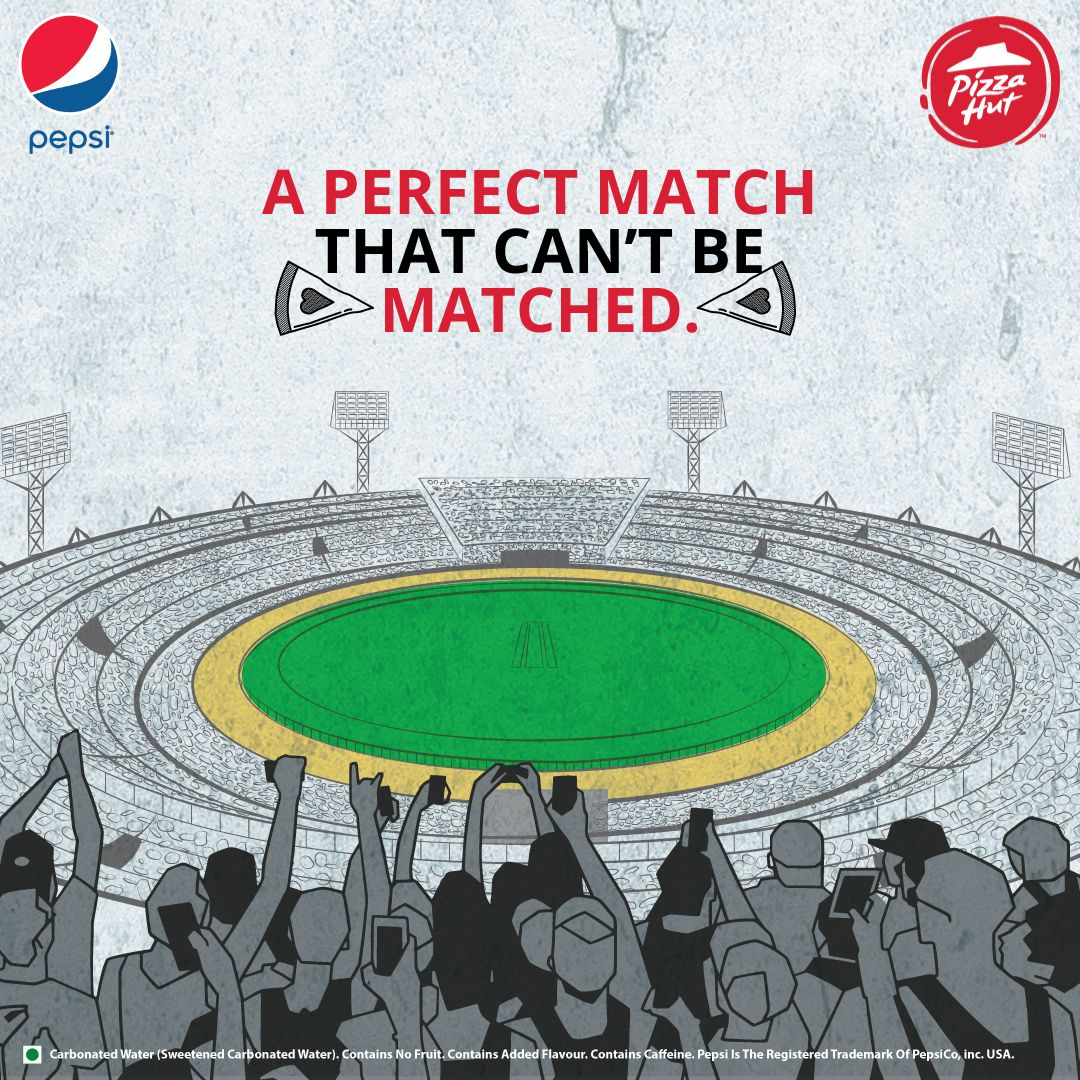pepsi: (21, 12, 115, 112)
